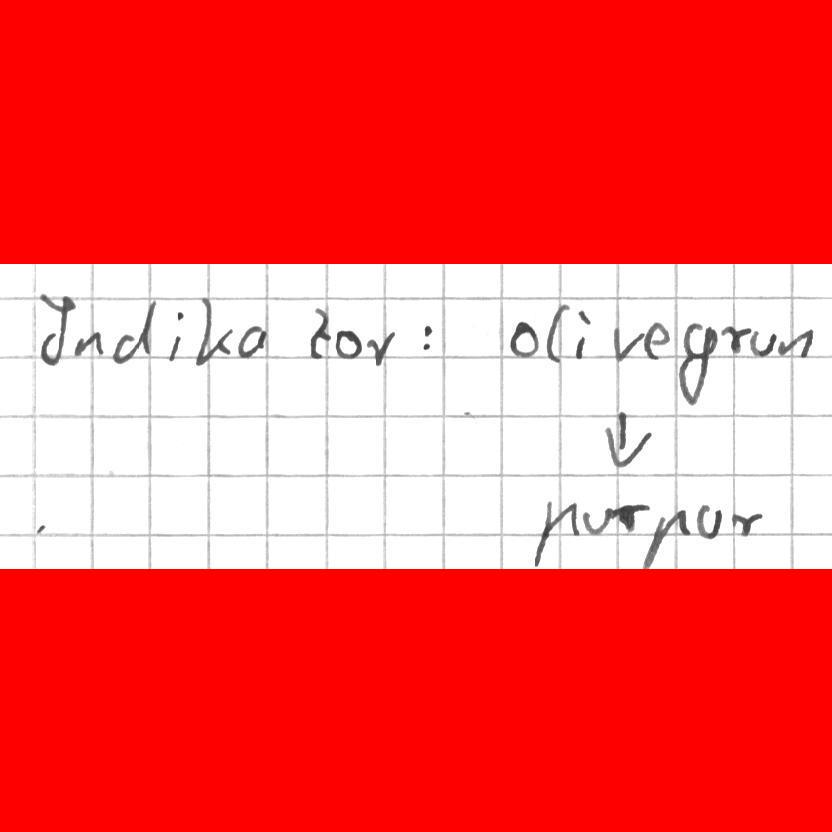Char: (675, 319, 718, 406), (530, 498, 582, 564), (604, 408, 652, 471), (35, 291, 74, 368), (112, 300, 157, 366), (643, 507, 690, 568), (194, 303, 231, 371), (545, 303, 569, 363), (307, 306, 333, 357), (571, 306, 594, 362), (612, 324, 644, 364), (613, 502, 653, 533), (167, 306, 188, 362), (365, 328, 395, 367), (510, 319, 538, 359), (778, 327, 811, 360), (695, 502, 722, 541), (645, 321, 671, 361), (237, 324, 266, 359), (729, 507, 760, 538), (580, 506, 613, 535), (71, 330, 105, 357), (721, 322, 747, 354), (335, 327, 360, 360), (750, 328, 776, 357), (417, 321, 436, 355)
